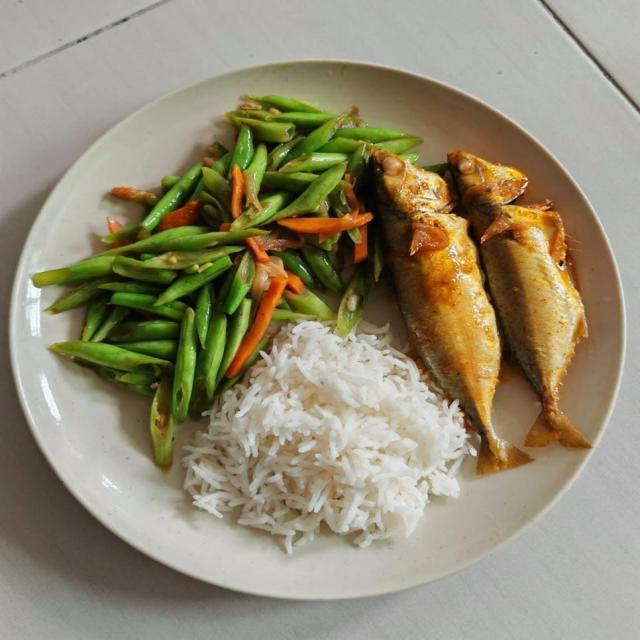Fish: (366, 142, 594, 479)
Plate: (9, 79, 624, 595)
Rice: (173, 322, 469, 559)
Vegetables: (34, 92, 422, 472)
